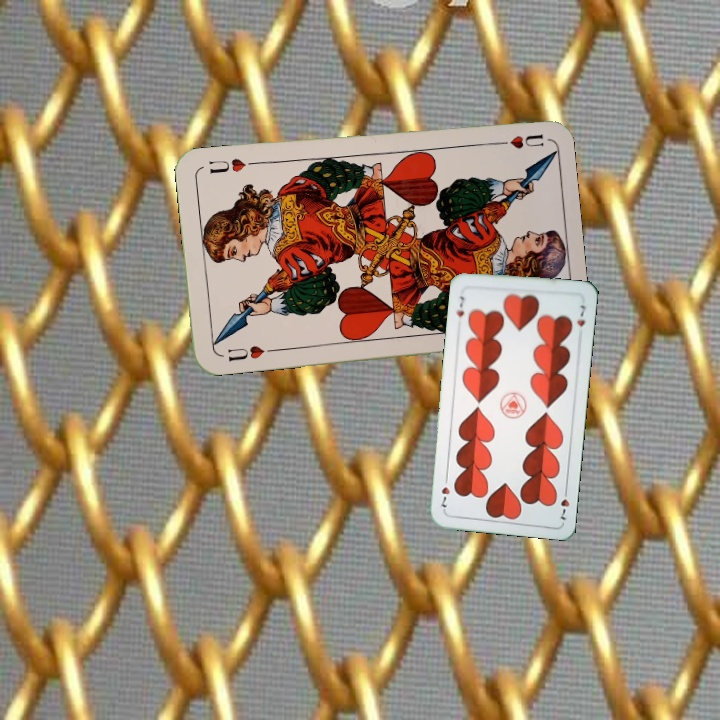H7: (556, 483, 572, 523), (453, 292, 467, 319)
HU: (488, 130, 547, 151), (224, 341, 276, 364)
